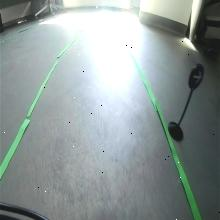right: (188, 62, 204, 90)
